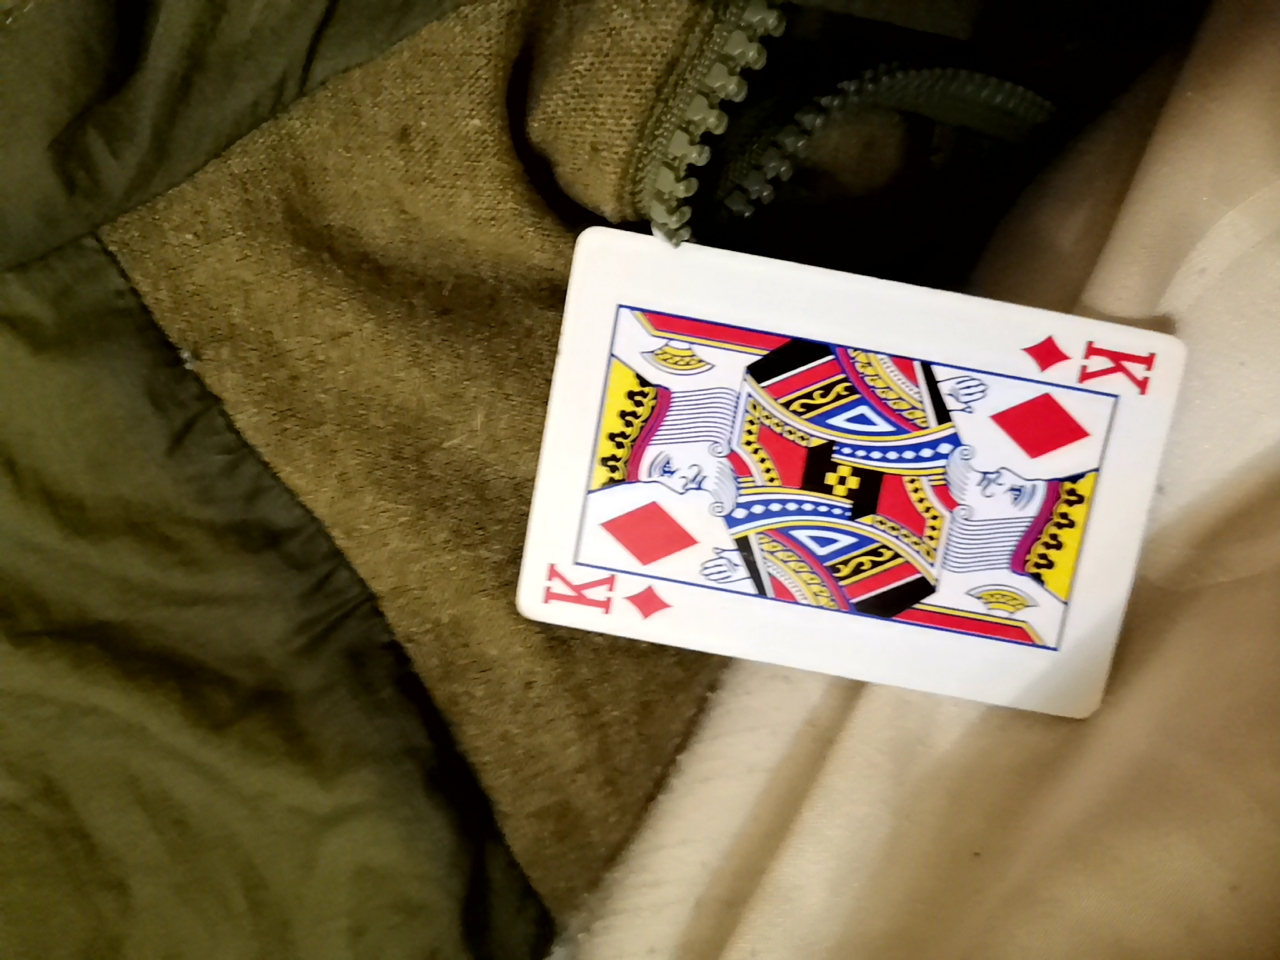fk k: (407, 228, 1100, 731)
